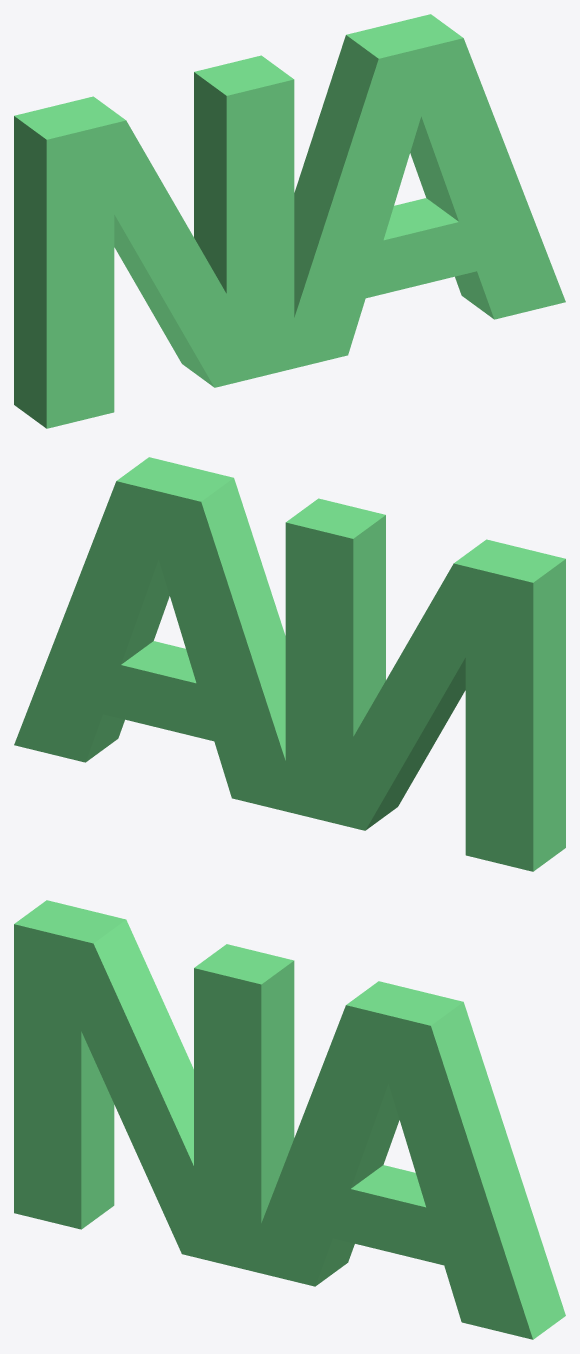
The model's file is suku_besar_na.glb.
The picture shows the model from 3 angles, top to bottom: view 1: azimuth 30°, elevation 25°; view 2: azimuth 150°, elevation 25°; view 3: azimuth 330°, elevation 25°; orthographic projection.
Visible parts, largest first — view 1: geometry_0; view 2: geometry_0; view 3: geometry_0.
Part boxes in pixels (box(x1,y1,x2,y2)): geometry_0: box(14, 14, 565, 428); geometry_0: box(14, 457, 565, 871); geometry_0: box(14, 900, 565, 1339).
Bounding box in the file's own units: 13.7 × 7.29 × 1.5.
